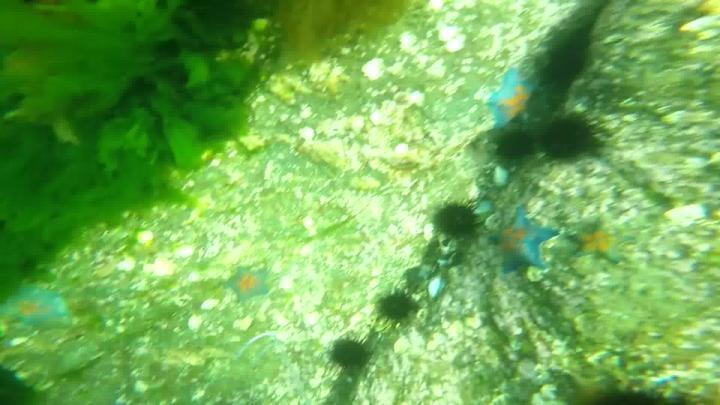echinus: (543, 112, 607, 160), (553, 32, 591, 75), (437, 203, 481, 240), (377, 289, 419, 325), (497, 129, 539, 163), (579, 392, 679, 405), (331, 339, 368, 373)
scallop: (438, 28, 468, 51), (364, 59, 386, 82)
starfish: (488, 207, 560, 278), (1, 284, 73, 330), (490, 71, 543, 132), (570, 217, 631, 262), (226, 266, 272, 302)
